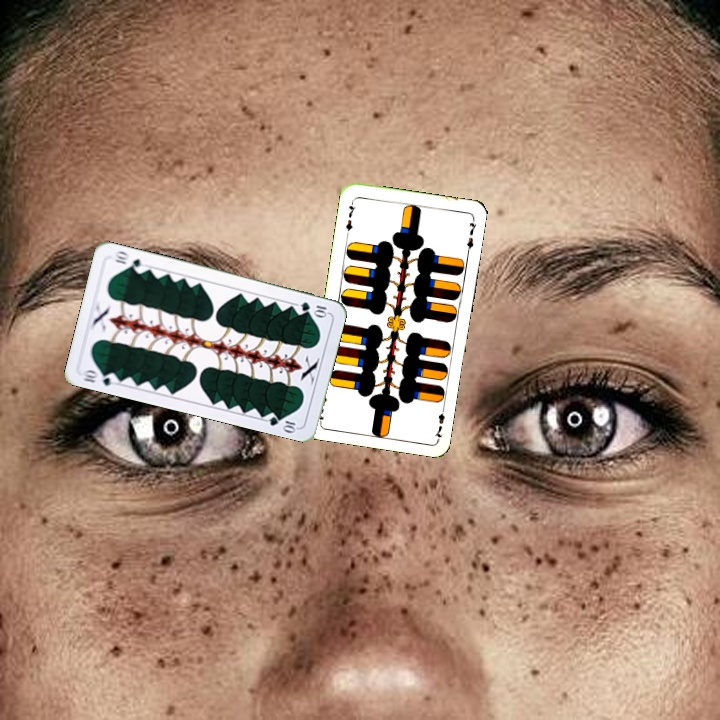E7: (342, 197, 358, 237), (431, 401, 447, 441)
G10: (79, 365, 120, 388), (296, 298, 330, 319)
